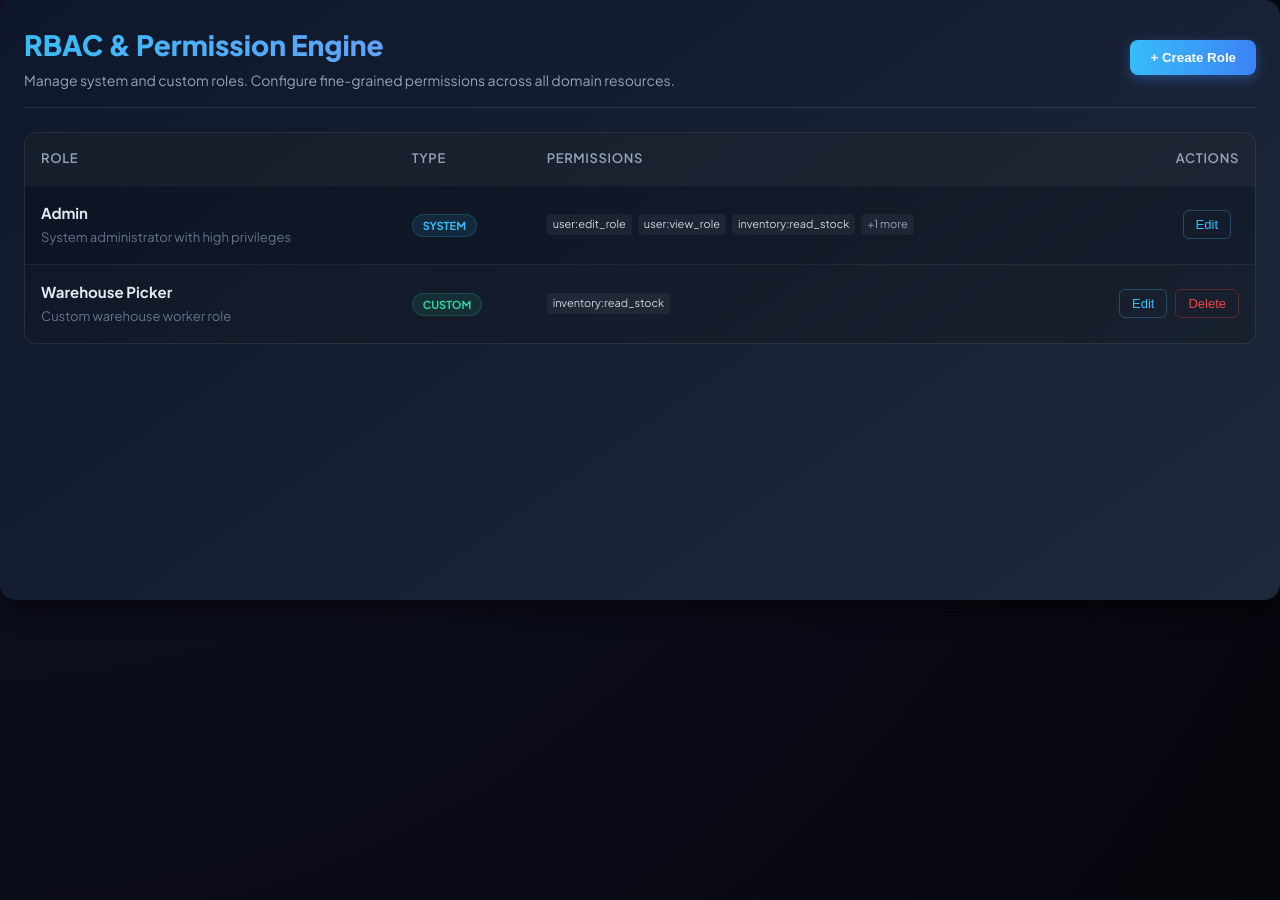
Scenario: RoleManagementPanel › surfaces error when updating permissions fails
Expected: the text "Warehouse Picker" is shown, [41,282,172,300]
Click the button with aria-label "Edit role Warehouse Picker". click: point(1143, 304)
box: [1119,289,1167,318]
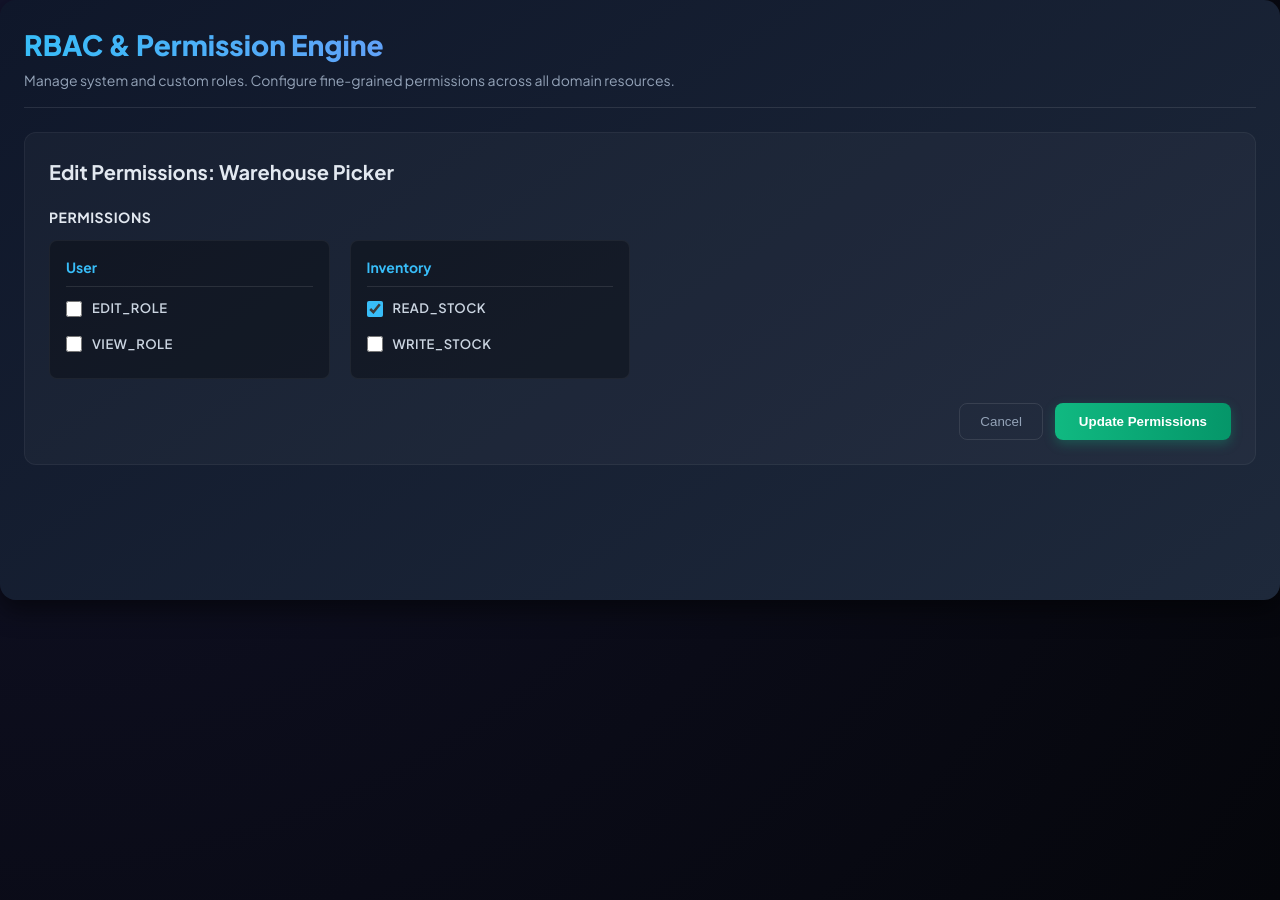
Click the button "Update Permissions". click: point(1143, 422)
box: [1055,403,1231,440]
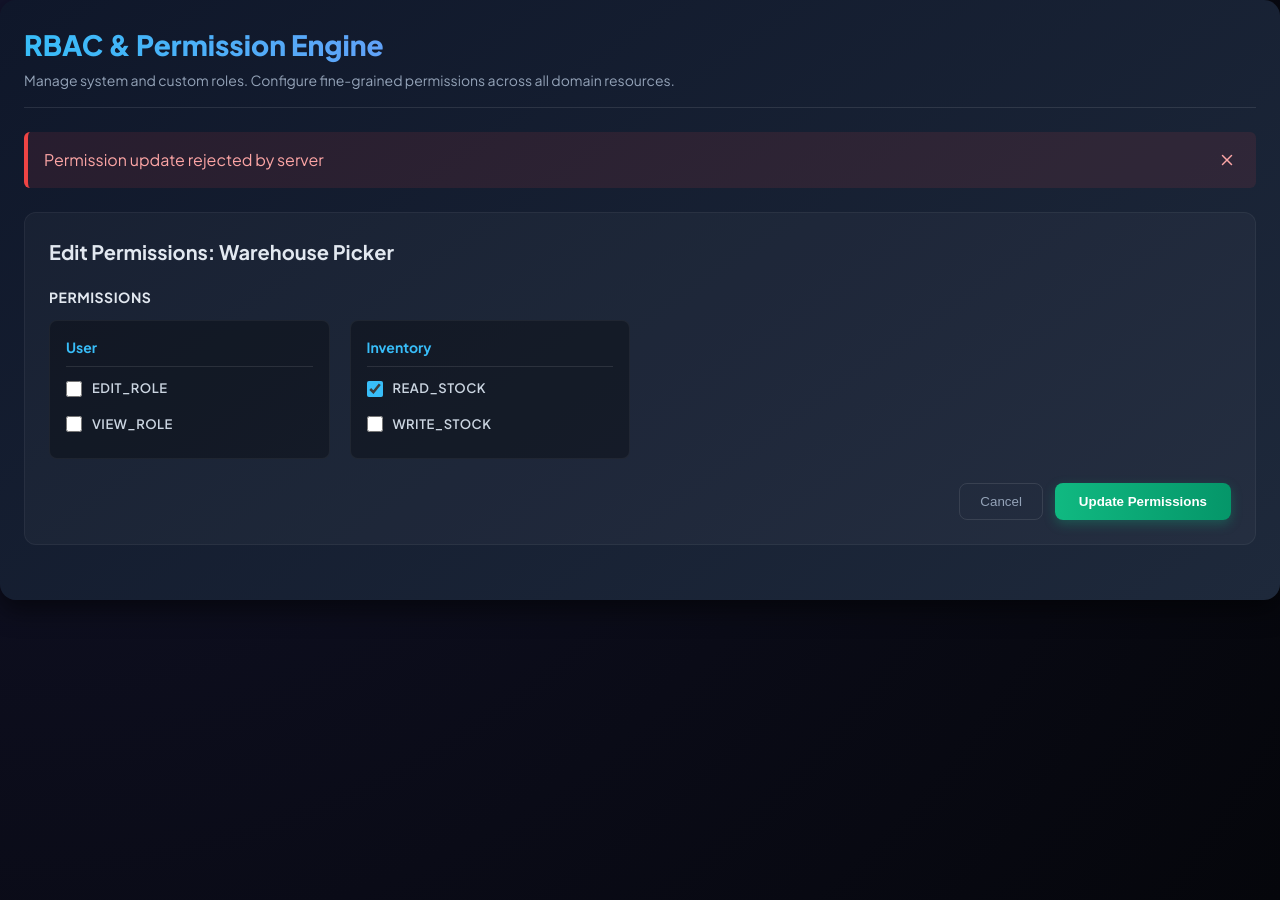
Result: the message reads "Permission update rejected by server" at [44,149,324,170]
